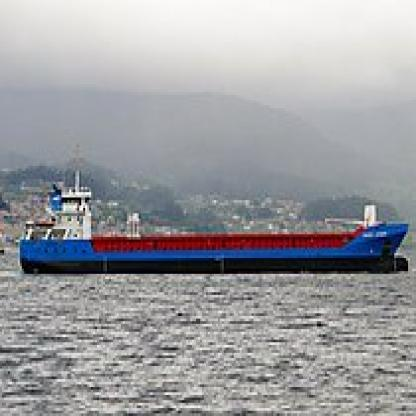Tanker: (16, 160, 412, 282)
